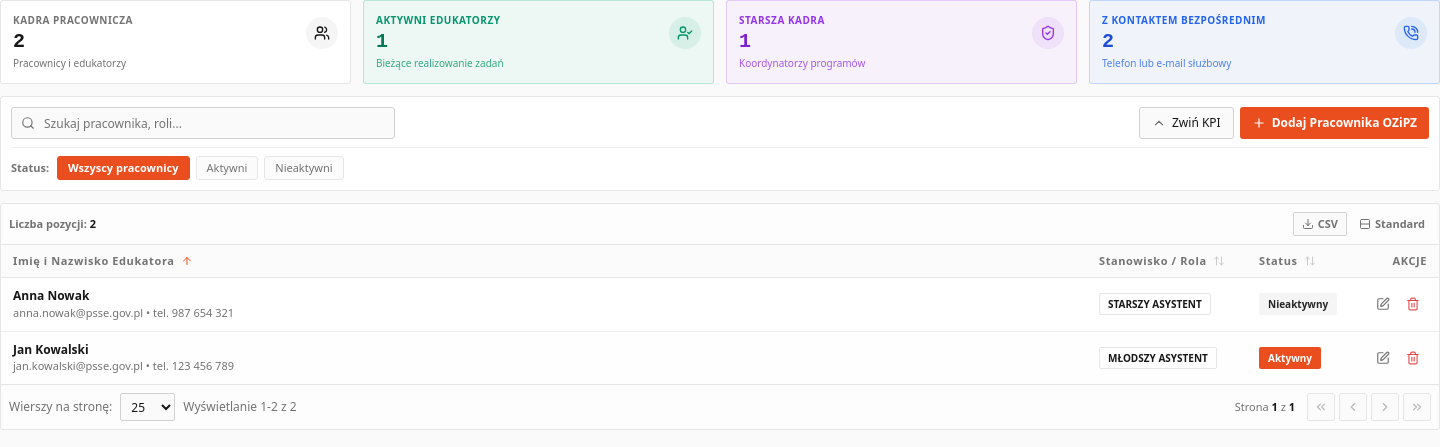
Test case: Staff Module Components › StaffSection › toggles KPI summary visibility
This screenshot has width=1440, height=447.
Check: the text "Kadra Pracownicza" is shown, box [13,13,133,27]
Click the button "Zwiń KPI": [1186, 123] box [1139,107,1234,139]
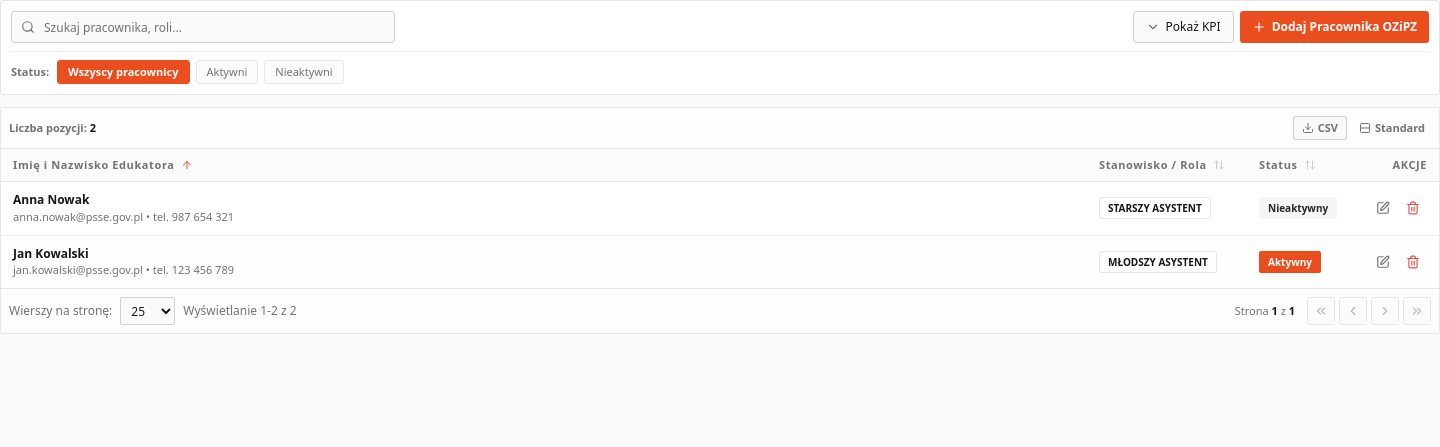
Check: the text "Kadra Pracownicza" is gone
